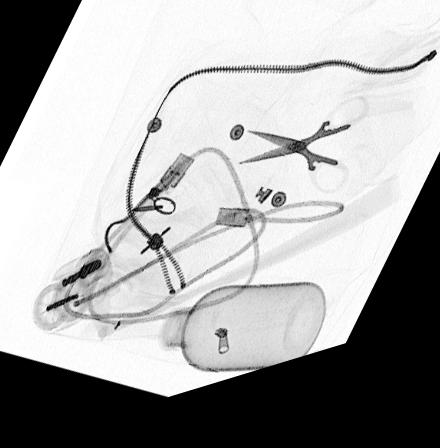Scissors: (235, 115, 370, 217)
